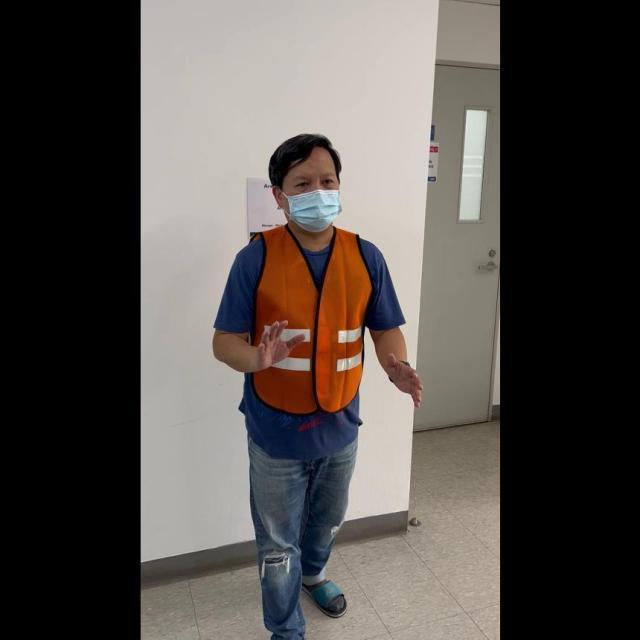bare_hand: (250, 312, 307, 372), (383, 351, 424, 410)
